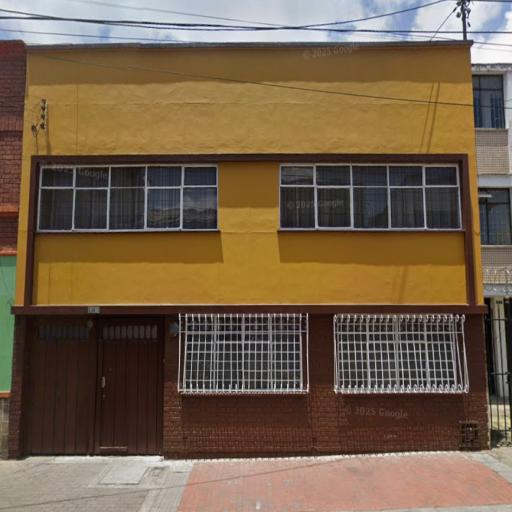Casa: (1, 37, 489, 461)
